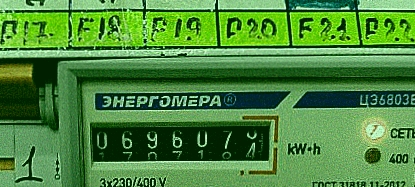0: (194, 126, 209, 148), (94, 128, 108, 150)
4: (244, 139, 257, 160)
6: (119, 128, 133, 149), (169, 128, 183, 148)
7: (219, 128, 234, 149)
9: (144, 128, 157, 149)
screen: (77, 111, 283, 171)
